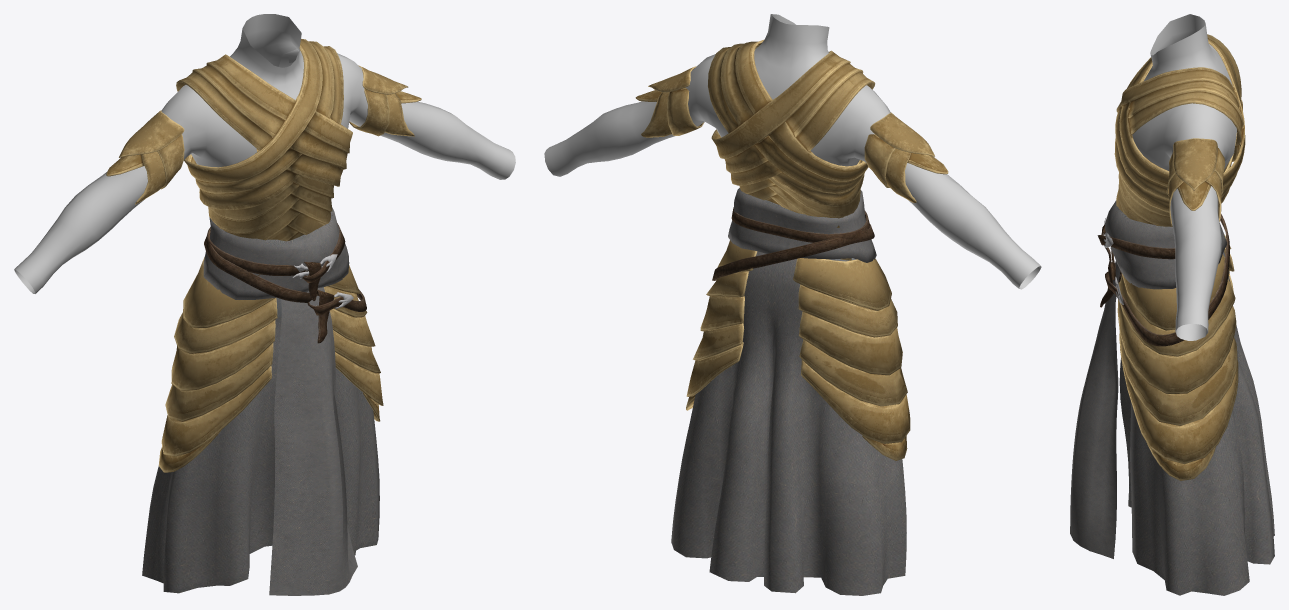
Rendered from rivendell_torso_infantry_tier3.fbx.
3 views of the same model, side by side, from view 1: azimuth 30°, elevation 25°; view 2: azimuth 150°, elevation 25°; view 3: azimuth 270°, elevation 25° (orthographic). The views are drawn at different scales.
Parts seen in each view (by area): view 1: rivendell_torso_infantry_tier3.4, rivendell_torso_infantry_tier3.1, rivendell_torso_infantry_tier3.2, rivendell_torso_infantry_tier3.5, rivendell_torso_infantry_tier3.3, rivendell_torso_infantry_tier3.0; view 2: rivendell_torso_infantry_tier3.1, rivendell_torso_infantry_tier3.3, rivendell_torso_infantry_tier3.5, rivendell_torso_infantry_tier3.2, rivendell_torso_infantry_tier3.4, rivendell_torso_infantry_tier3.0; view 3: rivendell_torso_infantry_tier3.1, rivendell_torso_infantry_tier3.3, rivendell_torso_infantry_tier3.4, rivendell_torso_infantry_tier3.5, rivendell_torso_infantry_tier3.2, rivendell_torso_infantry_tier3.0.
Boxes of the visible parts, left/top/right/bottom form: rivendell_torso_infantry_tier3.4: left=203, top=207, right=366, bottom=595; rivendell_torso_infantry_tier3.1: left=142, top=297, right=379, bottom=593; rivendell_torso_infantry_tier3.2: left=176, top=38, right=352, bottom=275; rivendell_torso_infantry_tier3.5: left=14, top=14, right=515, bottom=293; rivendell_torso_infantry_tier3.3: left=158, top=257, right=383, bottom=472; rivendell_torso_infantry_tier3.0: left=106, top=65, right=421, bottom=204; rivendell_torso_infantry_tier3.1: left=671, top=251, right=906, bottom=595; rivendell_torso_infantry_tier3.3: left=686, top=240, right=910, bottom=460; rivendell_torso_infantry_tier3.5: left=544, top=14, right=1041, bottom=289; rivendell_torso_infantry_tier3.2: left=708, top=39, right=875, bottom=260; rivendell_torso_infantry_tier3.4: left=712, top=188, right=876, bottom=280; rivendell_torso_infantry_tier3.0: left=635, top=66, right=948, bottom=202; rivendell_torso_infantry_tier3.1: left=1119, top=251, right=1274, bottom=595; rivendell_torso_infantry_tier3.3: left=1117, top=234, right=1238, bottom=480; rivendell_torso_infantry_tier3.4: left=1070, top=200, right=1229, bottom=558; rivendell_torso_infantry_tier3.5: left=1132, top=14, right=1236, bottom=340; rivendell_torso_infantry_tier3.2: left=1114, top=34, right=1245, bottom=226; rivendell_torso_infantry_tier3.0: left=1166, top=138, right=1225, bottom=226.
Bounding box in the file's own units: 1.38 × 0.5129 × 1.46.
